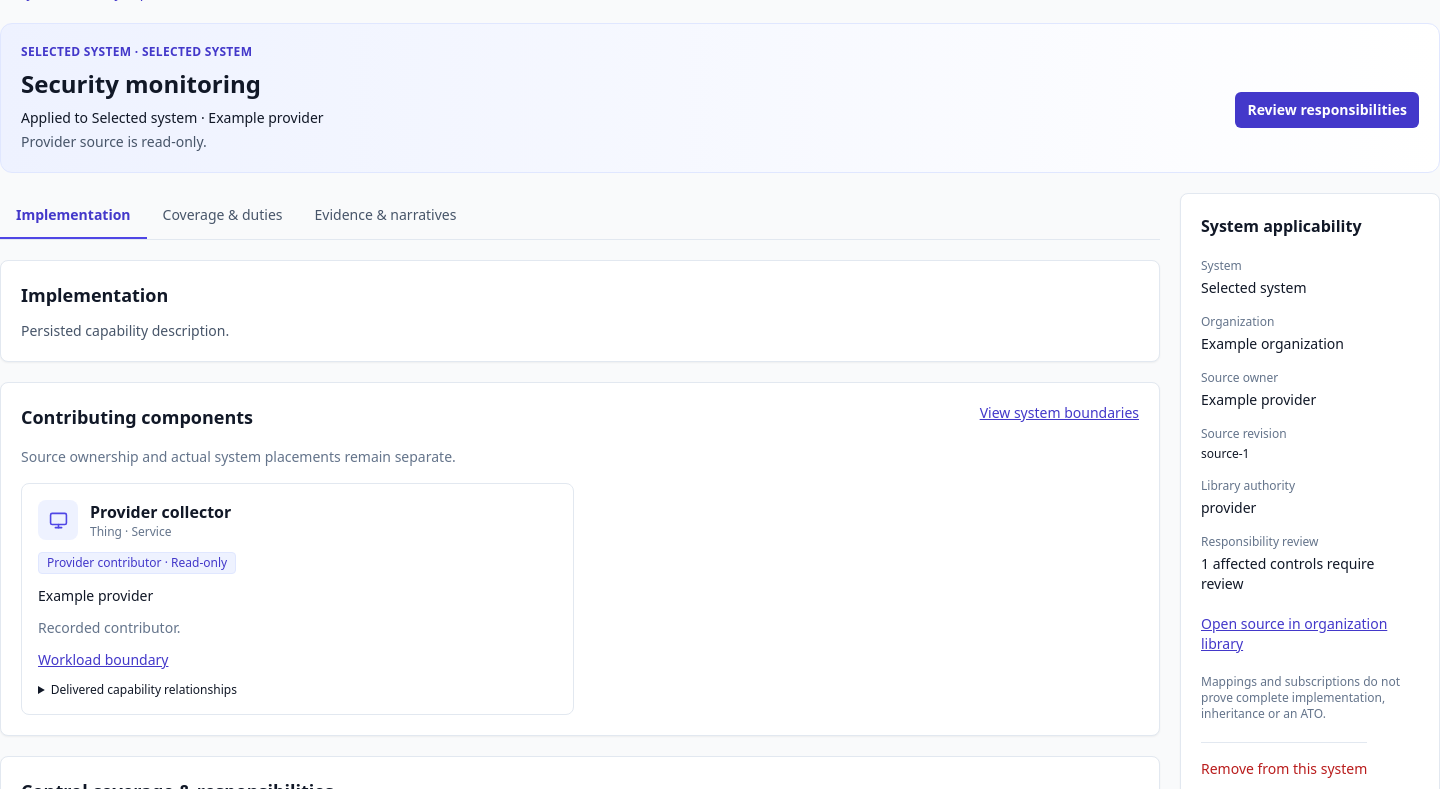
Test: System capability detail › rejects stale removal previews and asks to refresh the current capability
This screenshot has width=1440, height=789.
Step 1. Click the button "Remove from this system" → (1284, 760), box [1201,742,1367,779]
(page scrolled)
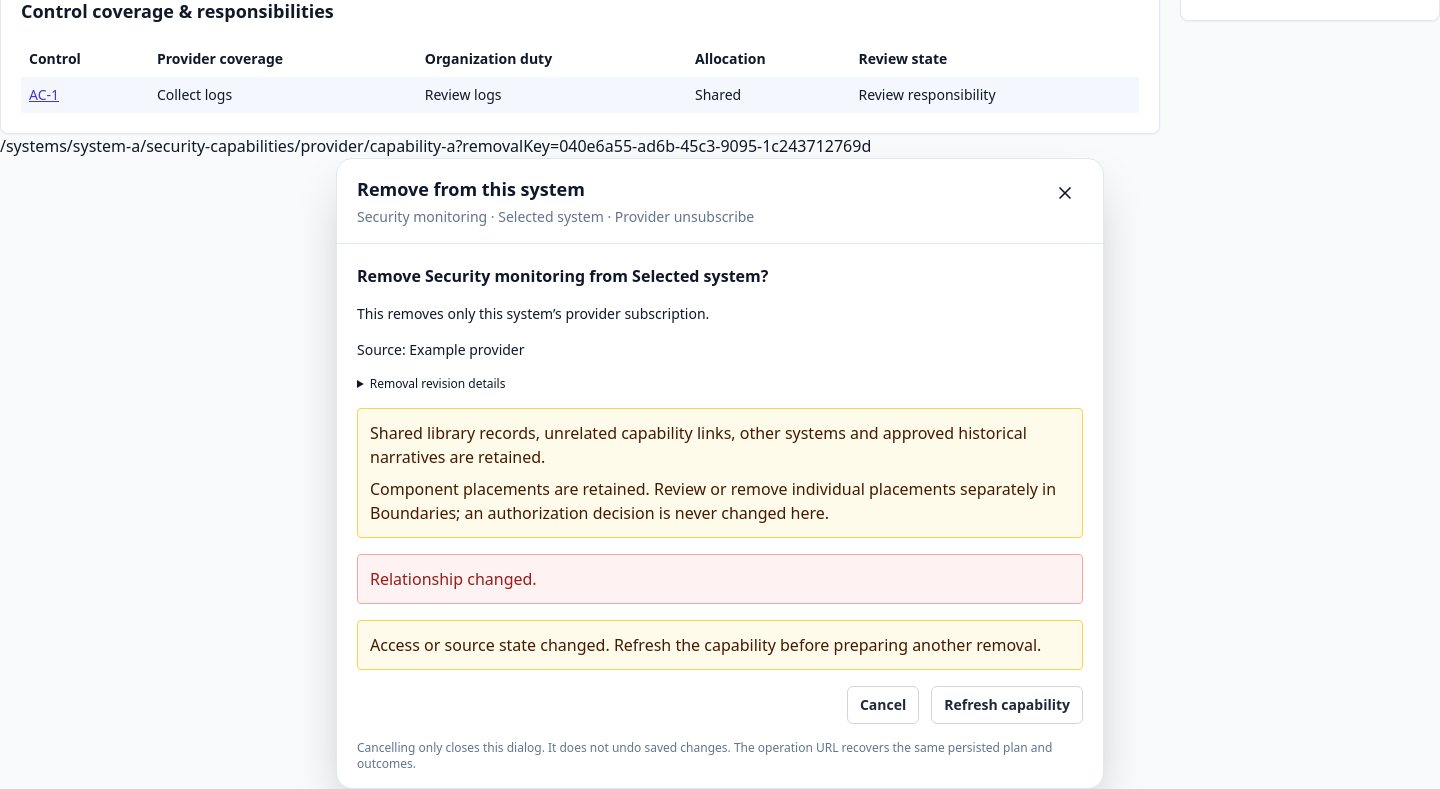
Now the message reads "Relationship changed.", box [370,568,537,590]
Now the button "Refresh capability" is shown, box [931,686,1083,724]
